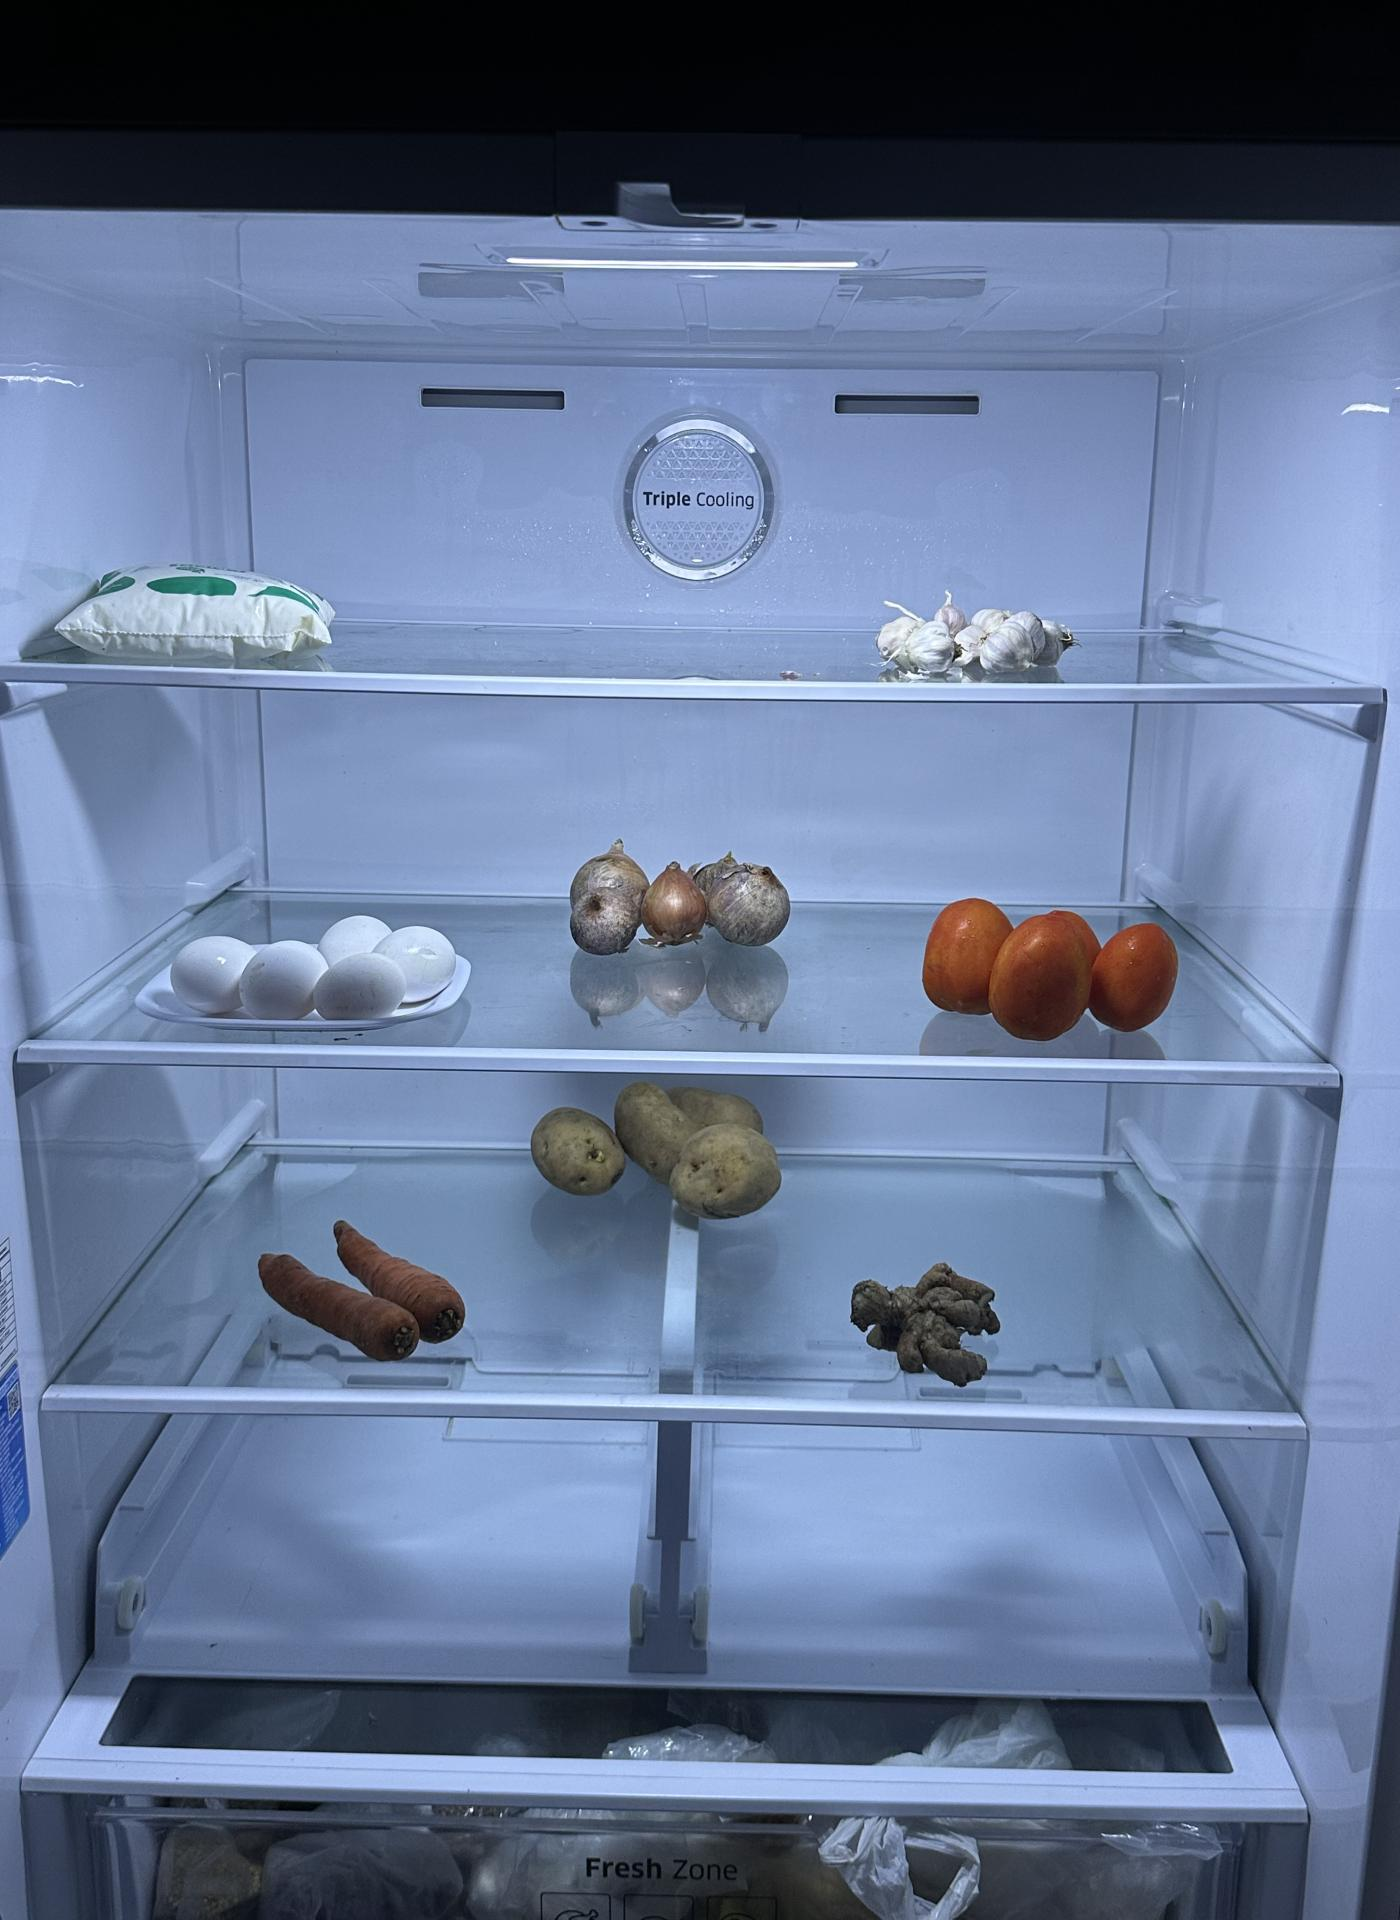carrots: (262, 1206, 473, 1362)
egg: (170, 888, 462, 1017)
garlic: (869, 595, 1082, 680)
ginger: (847, 1245, 1008, 1389)
milk: (15, 550, 338, 671)
onion: (562, 830, 795, 950)
potato: (528, 1069, 795, 1213)
tomato: (918, 884, 1188, 1040)
